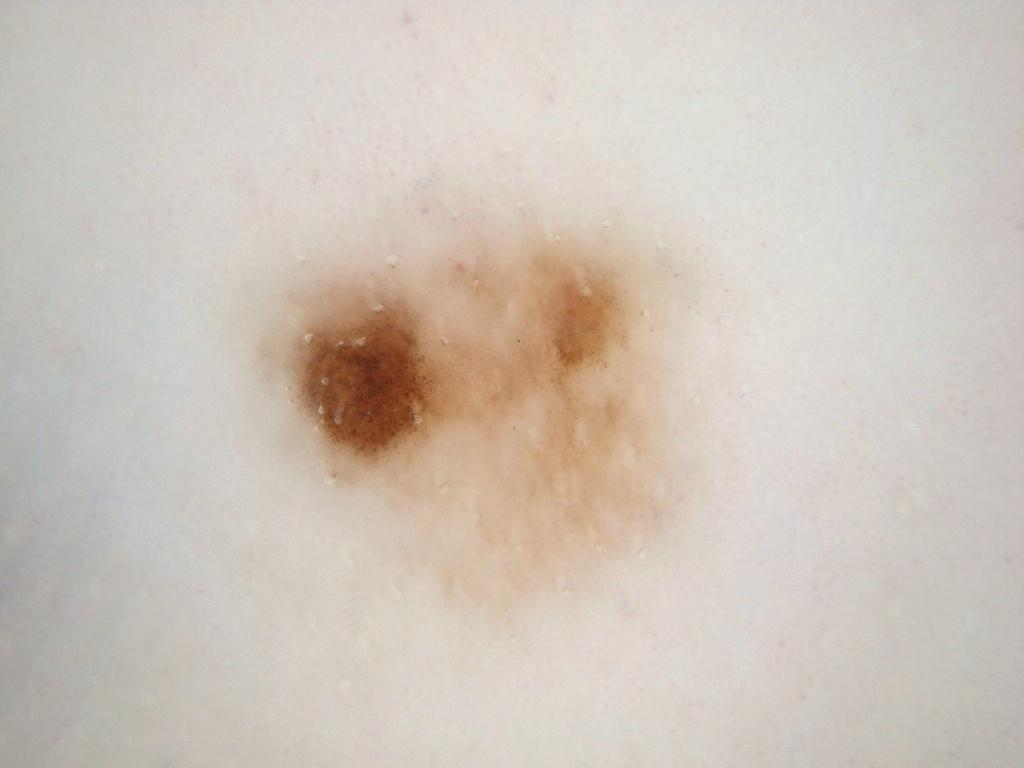Detected Lesion: (277, 208, 673, 571)
